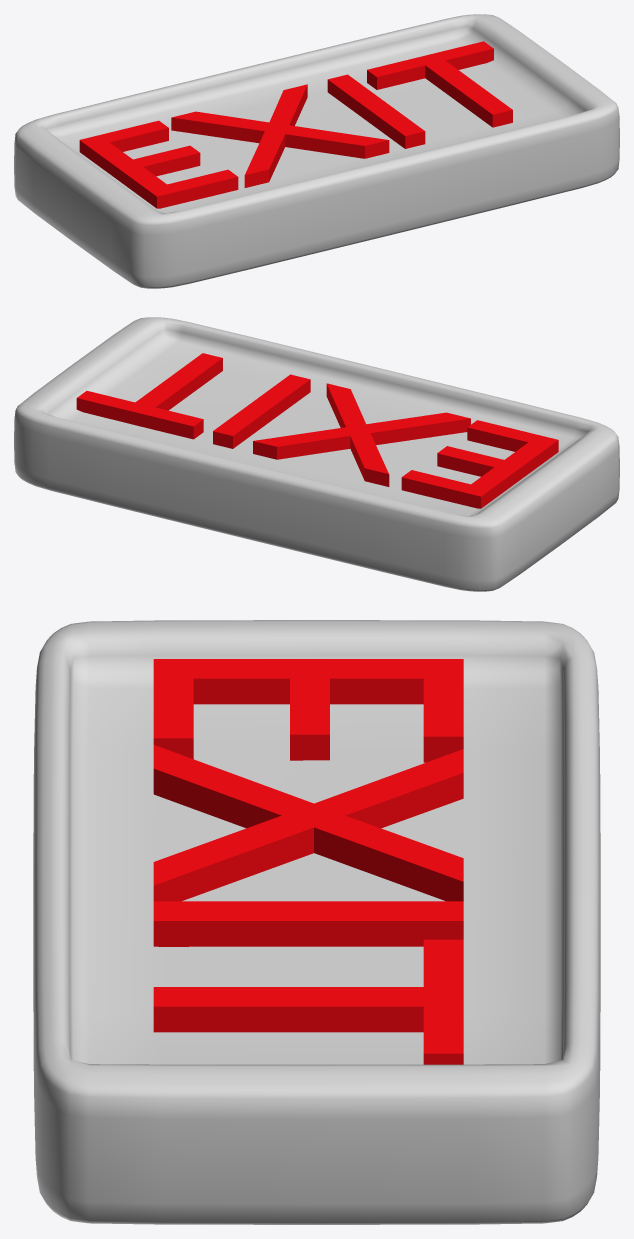
Rendered from Exit Sign.fbx.
3 views of the same model, one above another, from view 1: azimuth 30°, elevation 25°; view 2: azimuth 150°, elevation 25°; view 3: azimuth 270°, elevation 25° (orthographic). The views are drawn at different scales.
Visible parts, largest first — view 1: Exit Sign, Exit Sign Text; view 2: Exit Sign, Exit Sign Text; view 3: Exit Sign, Exit Sign Text.
Boxes of the visible parts, left/top/right/bottom form: Exit Sign: left=14, top=14, right=619, bottom=288; Exit Sign Text: left=79, top=41, right=512, bottom=208; Exit Sign: left=14, top=317, right=619, bottom=591; Exit Sign Text: left=76, top=353, right=558, bottom=508; Exit Sign: left=33, top=620, right=600, bottom=1224; Exit Sign Text: left=153, top=659, right=463, bottom=1064.
Bounding box in the file's own units: 200 × 29.24 × 100.
